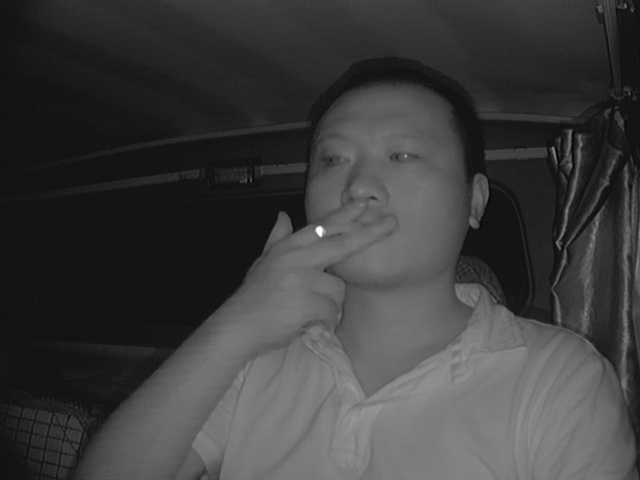hand: (278, 201, 392, 329)
